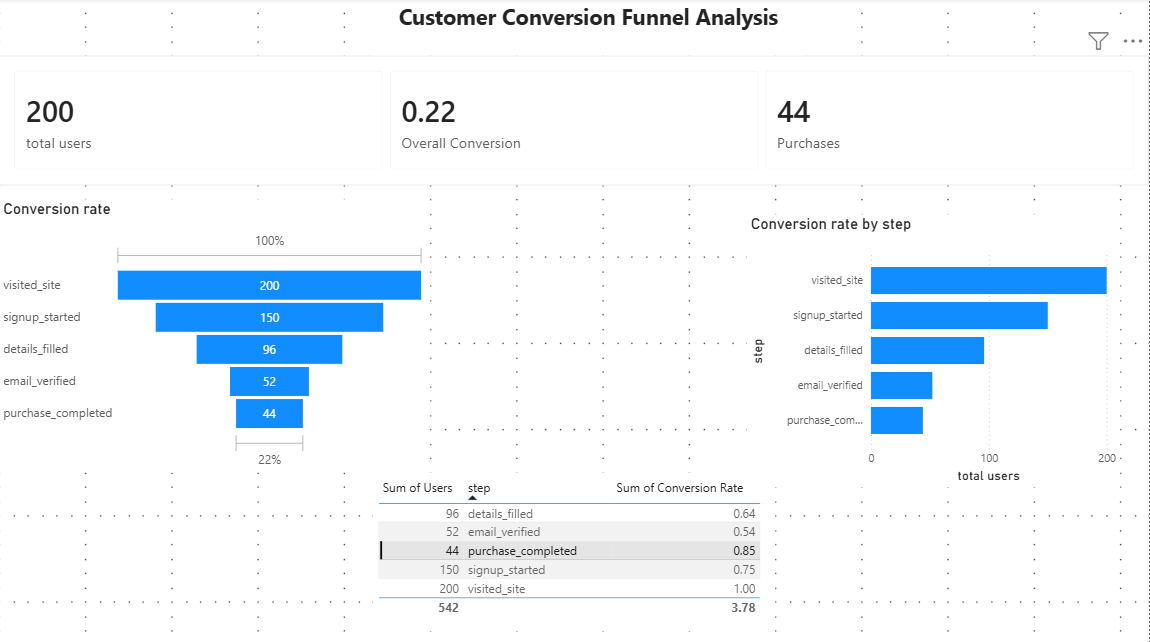

What the dashboard file says about the page in this screenshot:
{"tool":"powerbi","page":{"name":"Page 1","canvas":[1280,720],"ordinal":0},"visuals":[{"type":"funnel","title":"Conversion rate","fields":{"Category":["funnel_events_sample.step"],"Y":["funnel_events_sample.total users"]},"box":[0,224,480,304],"z":0},{"type":"barChart","title":"Conversion rate by step","fields":{"Category":["funnel_events_sample.step"],"Y":["funnel_events_sample.total users"]},"box":[832,240,416,304],"z":2},{"type":"tableEx","fields":{"Values":["Sum(Stage Summary.Users)","Stage Summary.step","Sum(Stage Summary.Conversion Rate)"]},"box":[416,528,448,176],"z":3},{"type":"cardVisual","fields":{"Data":["funnel_events_sample.total users","Stage Summary.Overall Conversion","Stage Summary.Purchases"]},"box":[0,64,1280,144],"z":4},{"type":"textbox","box":[416,0,480,64],"z":5}]}

Visuals, with their boxes in screenshot pixels (x1, y1, x2, y2), scaled from the page's 1280x720 canvas onto the 1150x642 screenshot:
"Conversion rate" funnel: <bbox>0, 200, 431, 471</bbox>
"Conversion rate by step" barChart: <bbox>748, 214, 1121, 485</bbox>
tableEx - Sum(Stage Summary.Users) x Stage Summary.step: <bbox>374, 471, 776, 628</bbox>
cardVisual - funnel_events_sample.total users x Stage Summary.Overall Conversion: <bbox>0, 57, 1149, 185</bbox>
textbox: <bbox>374, 0, 805, 57</bbox>
